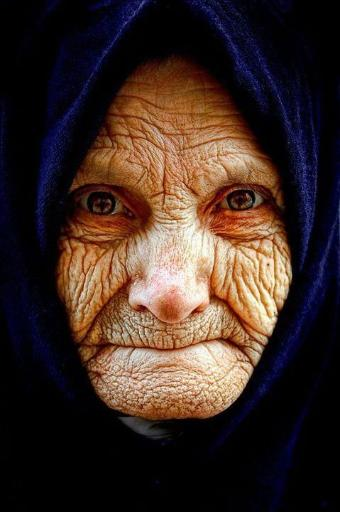left_eye: (211, 187, 273, 220)
left_lip_corner: (215, 332, 239, 352)
right_eye: (70, 189, 137, 222)
